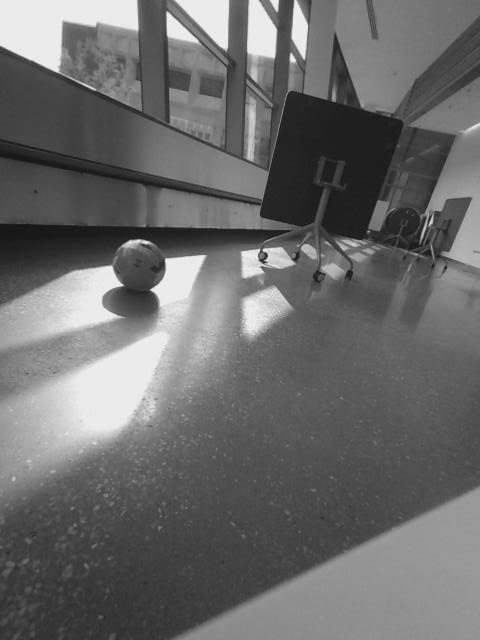ball: (109, 235, 167, 293)
